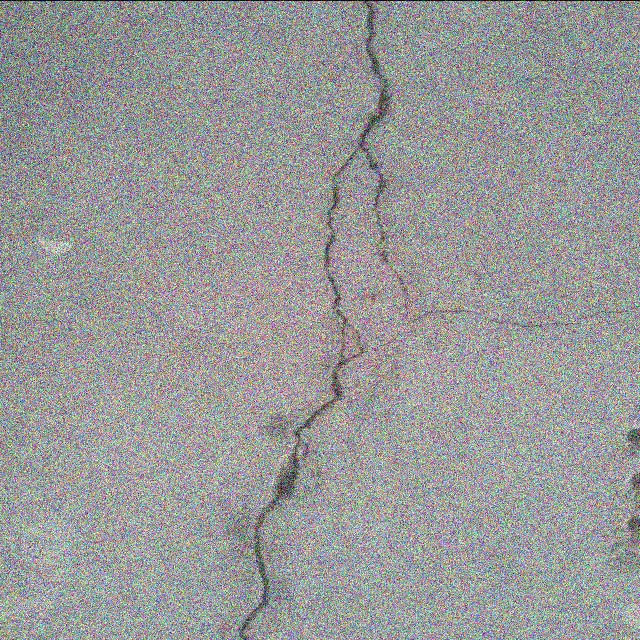SurfaceCrack: (195, 1, 434, 640)
